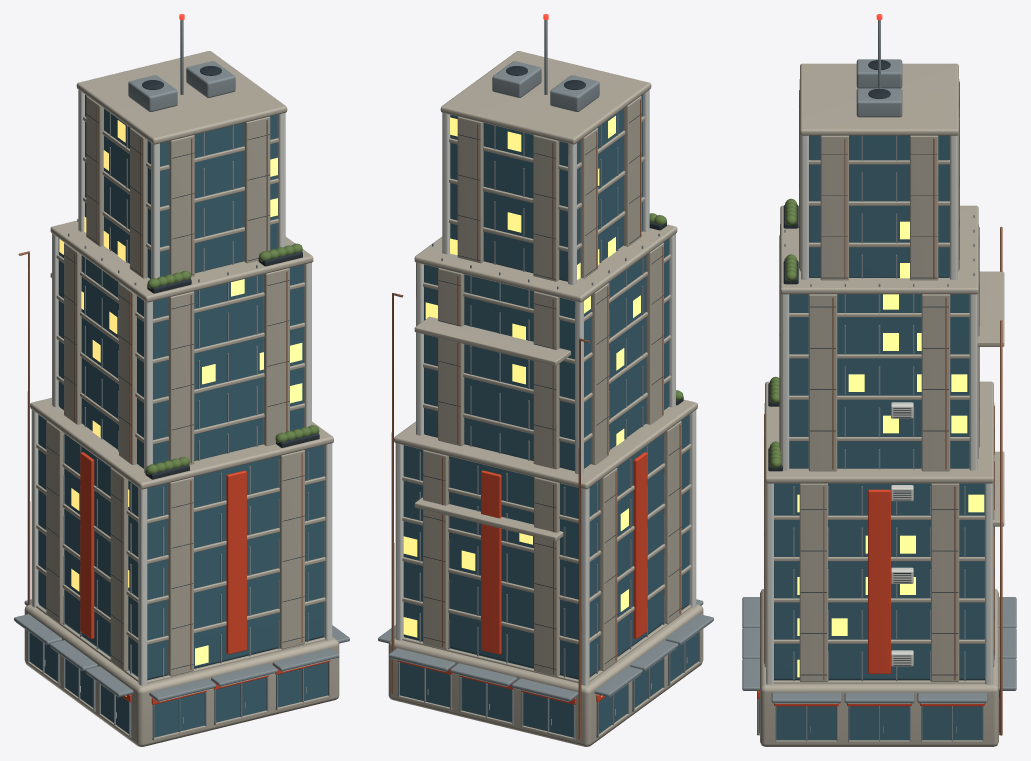
The model's file is tower-1.glb.
The picture shows the model from 3 angles, left to right: view 1: azimuth 30°, elevation 25°; view 2: azimuth 150°, elevation 25°; view 3: azimuth 270°, elevation 25°; orthographic projection. The views are drawn at different scales.
Parts seen in each view (by area): view 1: NC mineral concrete.001, NC sapphire glazing.001, NC brushed titanium.001, NC ceramic ivory.001, NC vermilion, NC oxidized copper.001, NC amber.001, NC graphite.001, NC foliage.001; view 2: NC mineral concrete.001, NC sapphire glazing.001, NC brushed titanium.001, NC ceramic ivory.001, NC vermilion, NC oxidized copper.001, NC amber.001, NC graphite.001; view 3: NC mineral concrete.001, NC sapphire glazing.001, NC brushed titanium.001, NC ceramic ivory.001, NC vermilion, NC oxidized copper.001, NC amber.001, NC graphite.001, NC foliage.001.
Boxes of the visible parts, x1=… form: NC mineral concrete.001: x1=24, y1=51, x2=339, y2=746; NC sapphire glazing.001: x1=29, y1=95, x2=327, y2=737; NC brushed titanium.001: x1=14, y1=20, x2=349, y2=739; NC ceramic ivory.001: x1=16, y1=90, x2=336, y2=723; NC vermilion: x1=80, y1=452, x2=330, y2=704; NC oxidized copper.001: x1=18, y1=107, x2=302, y2=669; NC amber.001: x1=59, y1=120, x2=302, y2=696; NC graphite.001: x1=46, y1=66, x2=319, y2=669; NC foliage.001: x1=146, y1=243, x2=319, y2=474; NC mineral concrete.001: x1=388, y1=51, x2=703, y2=746; NC sapphire glazing.001: x1=400, y1=95, x2=698, y2=737; NC brushed titanium.001: x1=378, y1=20, x2=713, y2=739; NC ceramic ivory.001: x1=391, y1=90, x2=711, y2=725; NC vermilion: x1=397, y1=452, x2=647, y2=704; NC oxidized copper.001: x1=391, y1=99, x2=680, y2=739; NC amber.001: x1=403, y1=116, x2=640, y2=696; NC graphite.001: x1=423, y1=66, x2=683, y2=669; NC mineral concrete.001: x1=757, y1=63, x2=1004, y2=746; NC sapphire glazing.001: x1=759, y1=135, x2=999, y2=740; NC brushed titanium.001: x1=742, y1=20, x2=1016, y2=741; NC ceramic ivory.001: x1=766, y1=135, x2=992, y2=732; NC vermilion: x1=757, y1=489, x2=999, y2=706; NC oxidized copper.001: x1=764, y1=81, x2=1002, y2=735; NC amber.001: x1=756, y1=221, x2=984, y2=692; NC graphite.001: x1=764, y1=60, x2=994, y2=675; NC foliage.001: x1=769, y1=198, x2=797, y2=468.
Size of the model in its own units: 24.05 by 66.2 by 24.05.
